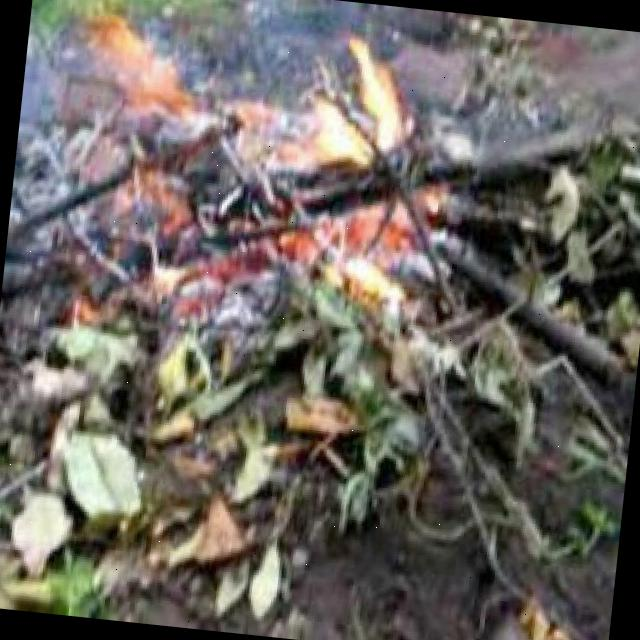fire: (58, 7, 482, 323)
